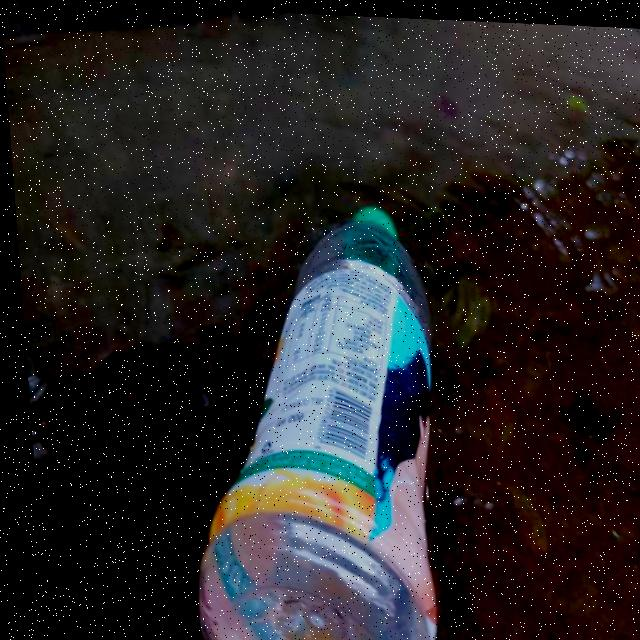waterbottle: (142, 183, 458, 640)
